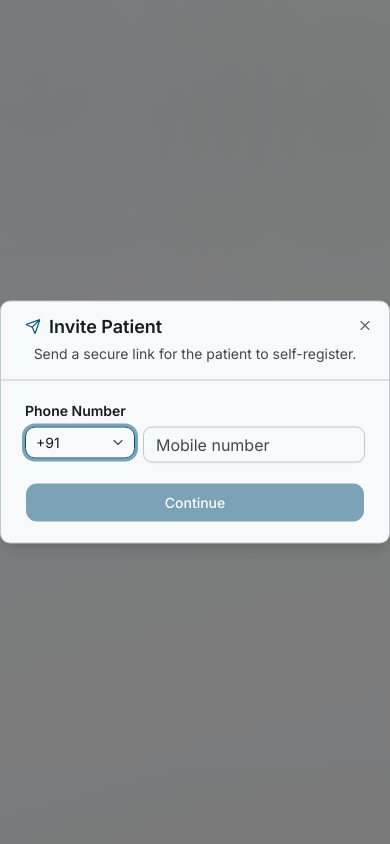
Test: InvitePatientDialog — Journey Test › handles duplicate phone flow correctly
Type "9876543210" into the field with placeholder "Mobile number" at point(254, 444), box x1=143 y1=426 x2=365 y2=462
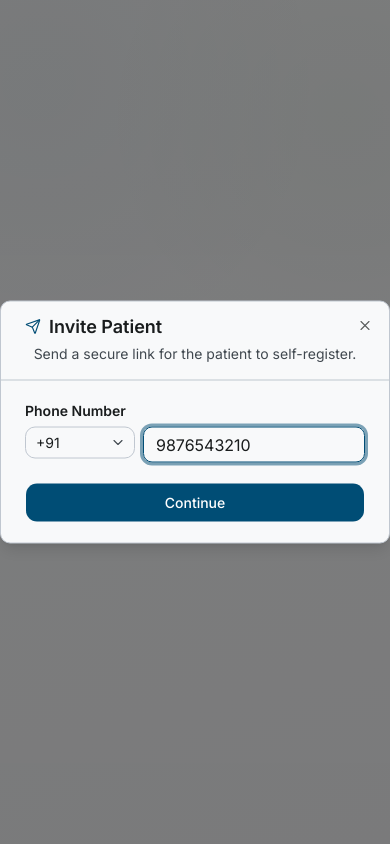
Click the button "Continue" at point(195, 502), box x1=25 y1=482 x2=365 y2=522
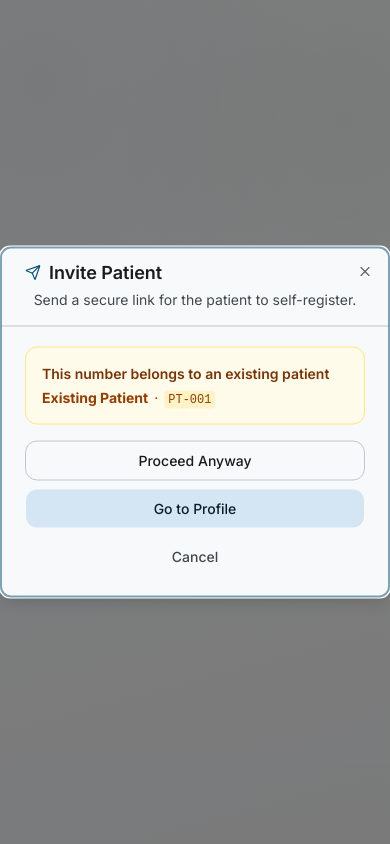
Check: the text "This number belongs to an existing patient" is shown, box x1=42 y1=364 x2=348 y2=384
Check: the text "Existing Patient" is shown, box x1=42 y1=388 x2=148 y2=406
Check: the text "PT-001" is shown, box x1=164 y1=390 x2=215 y2=408
